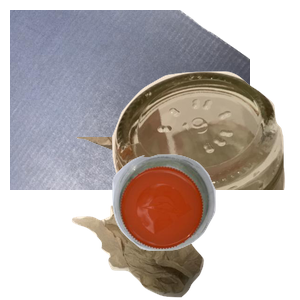cardboard: (10, 10, 250, 190)
glass: (89, 69, 300, 249)
plastic: (110, 152, 300, 300)
trash: (66, 137, 263, 300)
